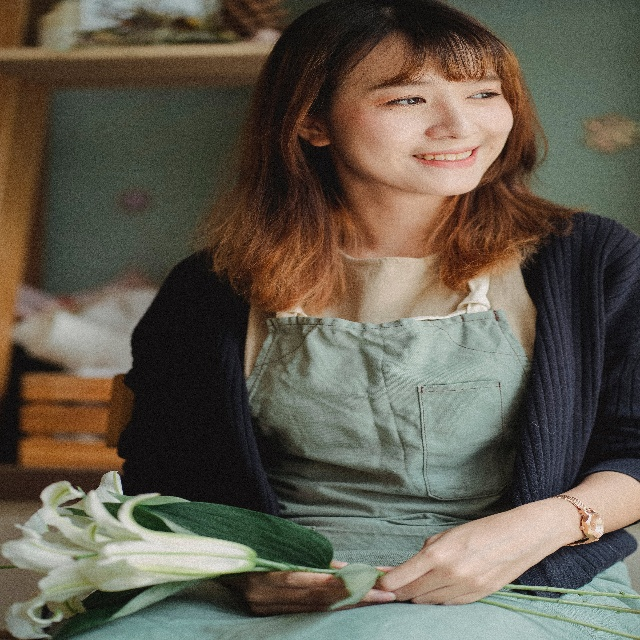Sin_guantes: (374, 501, 562, 604), (245, 569, 392, 614)
